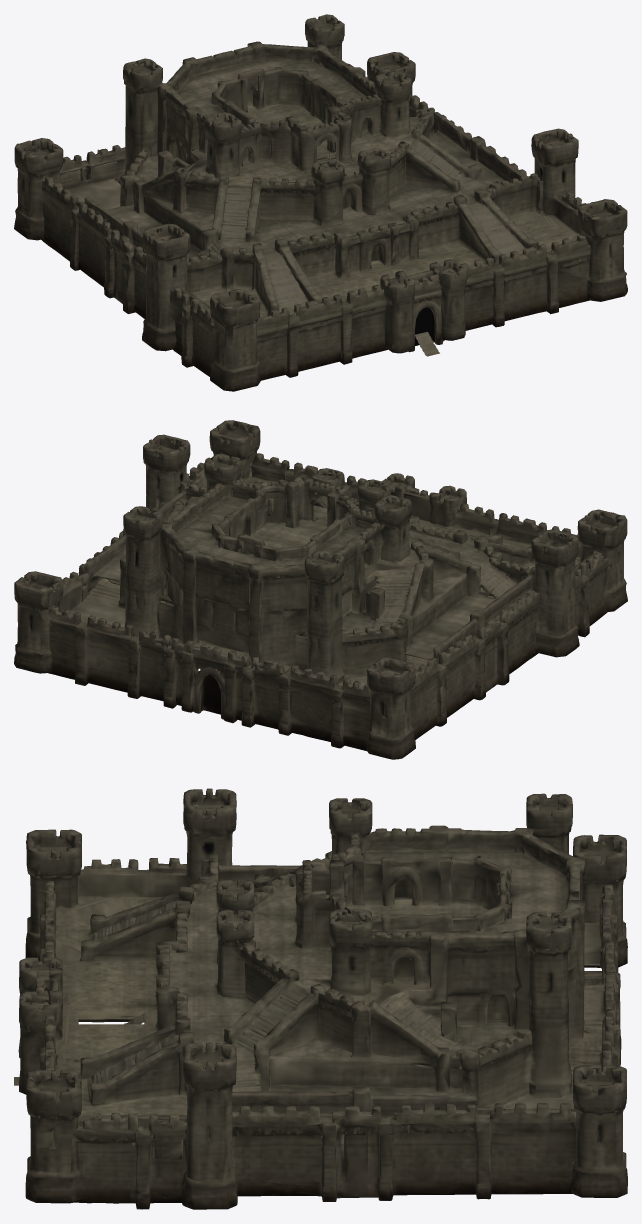
3 renders of one model, top to bottom at view 1: azimuth 30°, elevation 25°; view 2: azimuth 150°, elevation 25°; view 3: azimuth 270°, elevation 25°, orthographic. The views are drawn at different scales.
Parts seen in each view (by area): view 1: valley-castle; view 2: valley-castle; view 3: valley-castle.
Boxes of the visible parts, <box> form: valley-castle: <box>14,14,627,391</box>; valley-castle: <box>14,420,627,759</box>; valley-castle: <box>14,788,627,1209</box>.
Size of the model in its own units: 69.99 by 26.08 by 65.49.
1 material, 1 textured.
